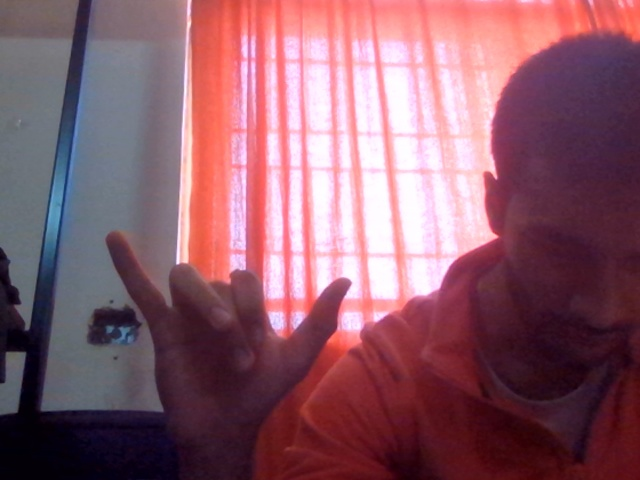Y: (71, 206, 397, 480)
